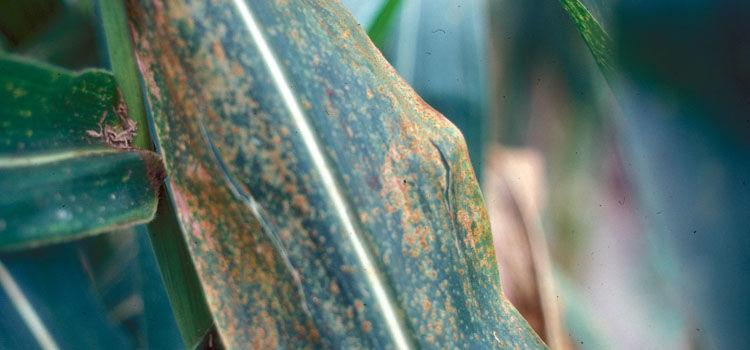Corn rust leaf: (122, 2, 545, 350)
